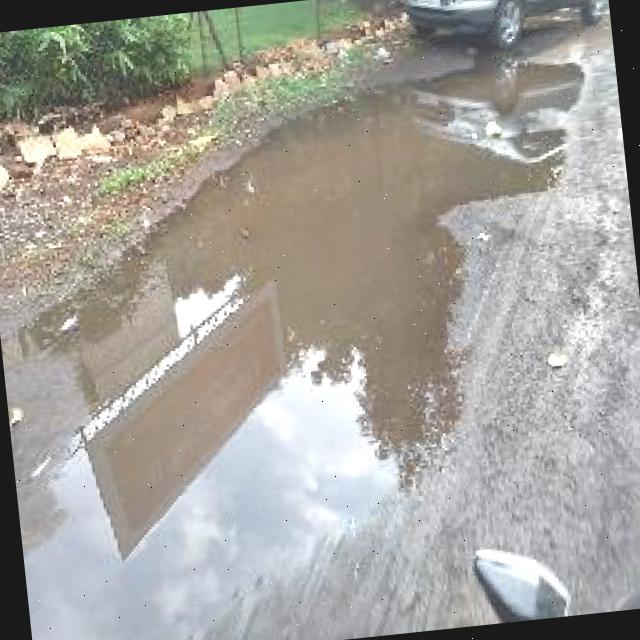stagnation: (289, 70, 601, 230)
